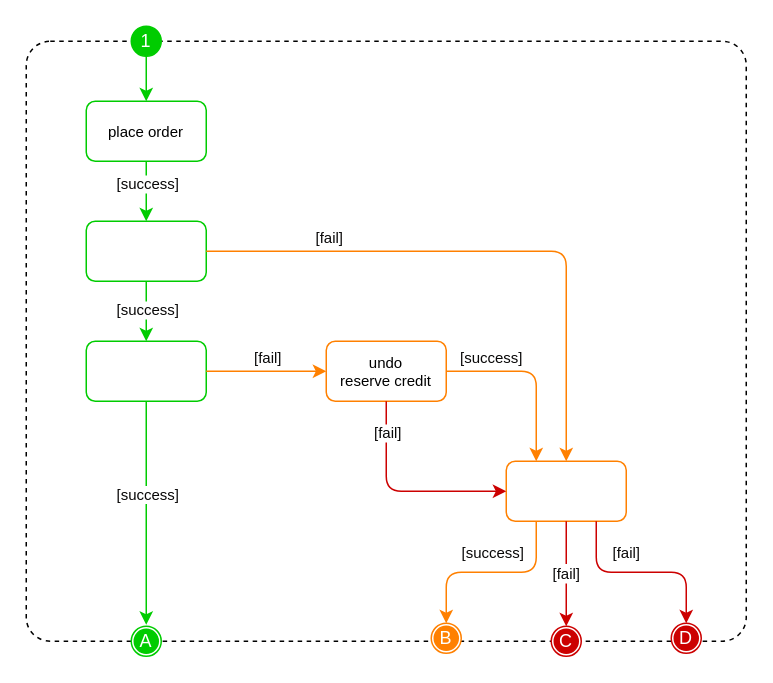
Image size: 773x683. Some labels were removed from this diagram. Here are the shapes that lost their labels. From the top down, the centre of each, then its label:
At [145,250]: "reserve credit".
At [145,370]: "approve order".
At [565,490]: "undo place order".
